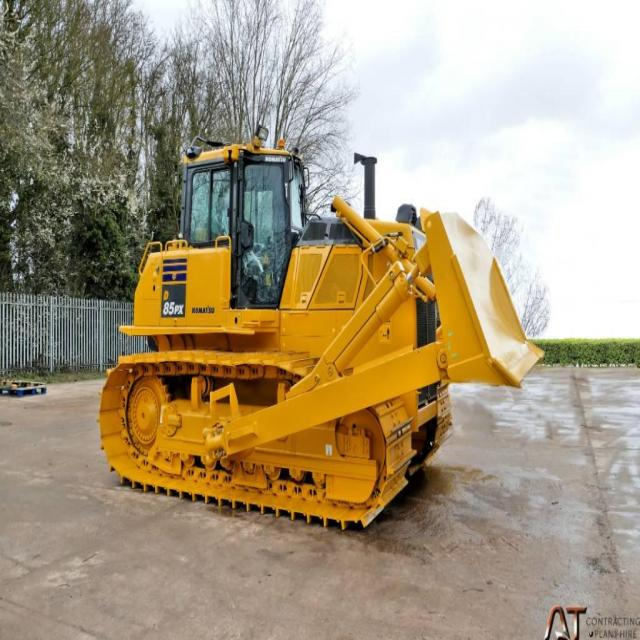Bulldozer: (82, 97, 562, 550)
